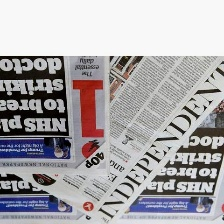news_paper: (0, 54, 224, 223), (0, 53, 112, 178)
